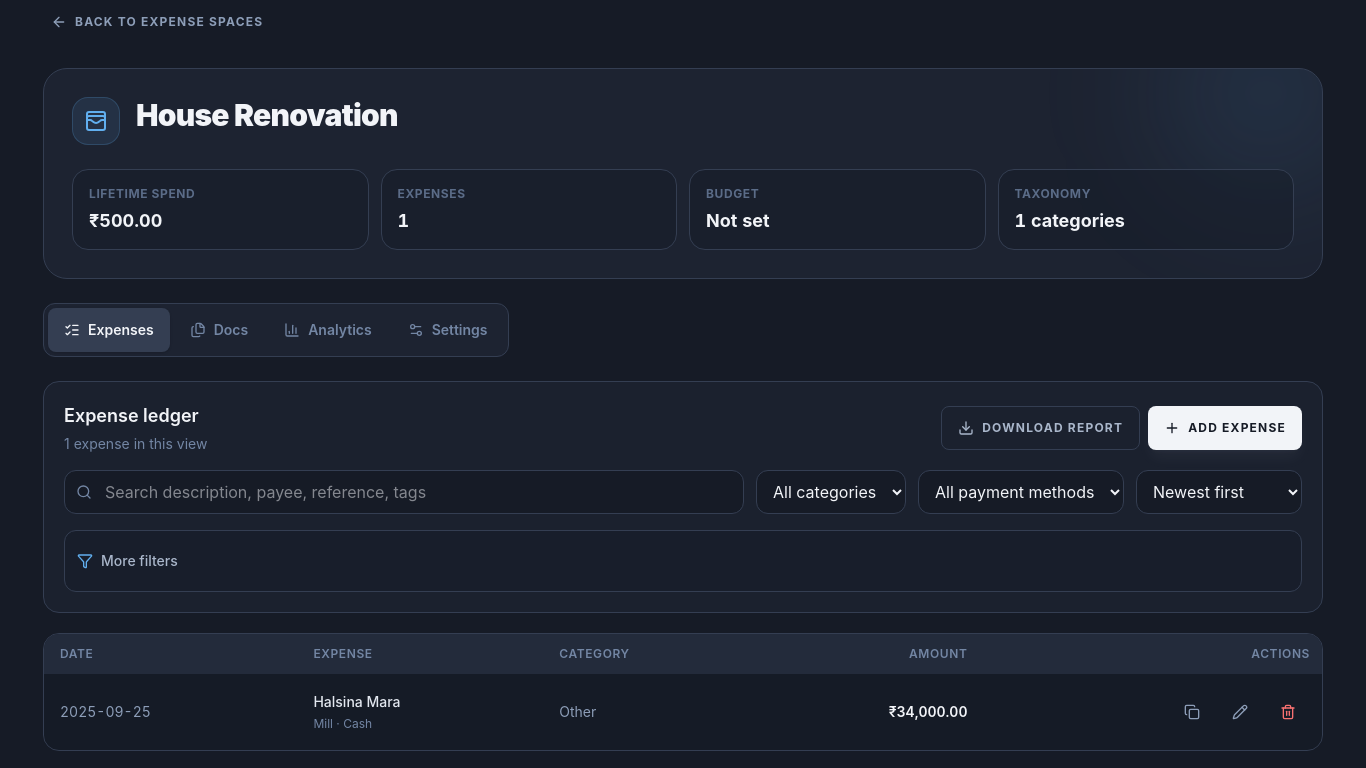
Test case: Expense Spaces AdminView › opens a prefilled add-expense form when an expense is duplicated
What coordinates should you click on to do the following:
click the button named "duplicate halsina mara"
I would click on:
 (1192, 712)
Its box is [1170, 690, 1214, 734].
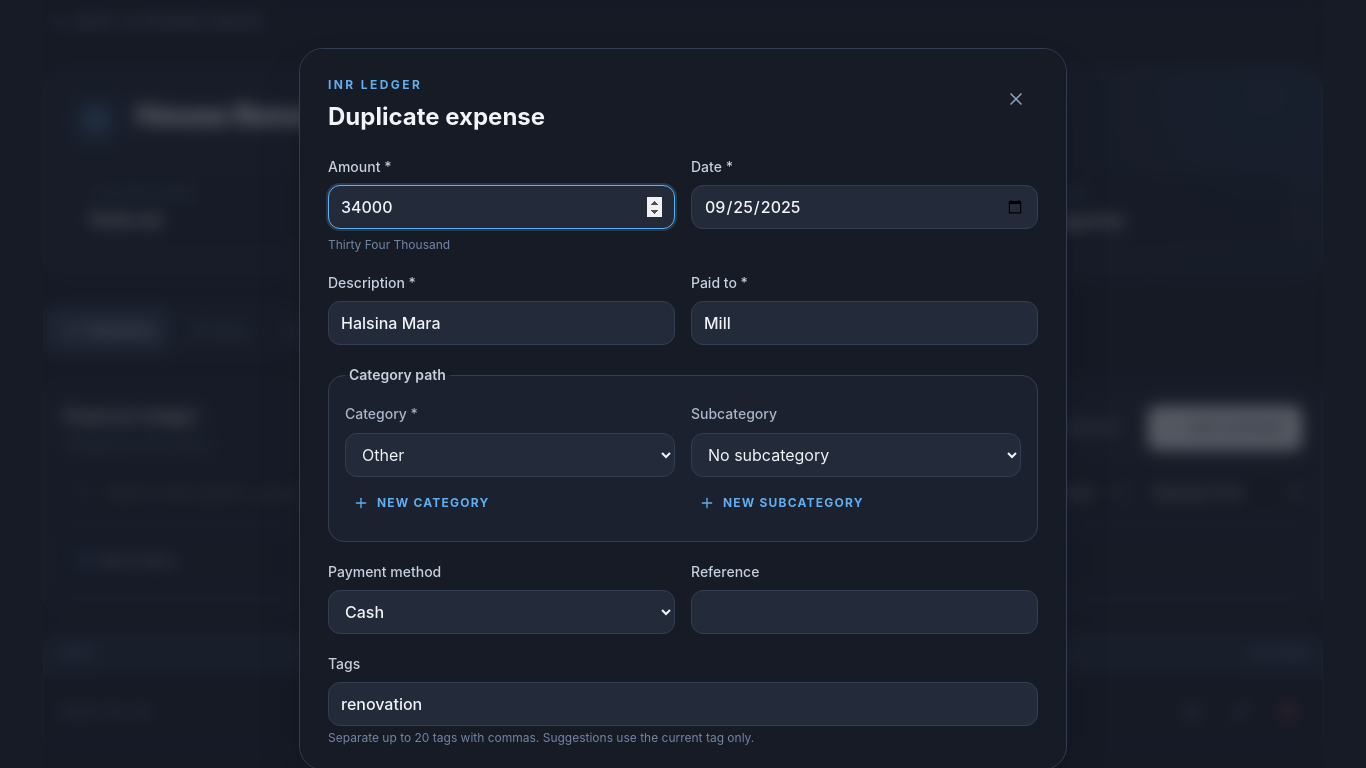
Result: the dialog shows "Duplicate expense" at [328, 102, 545, 131]
Result: the number field labelled "Amount * Thirty Four Thousand" holds "34000" at [328, 185, 675, 229]
Result: the dropdown labelled "Description *" holds "Halsina Mara" at [328, 301, 675, 345]
